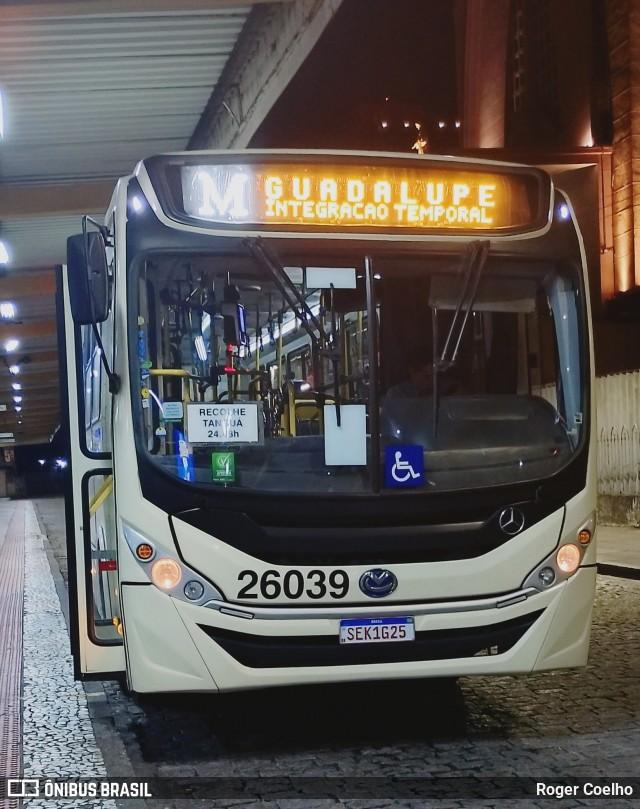GUADALUPE: (257, 170, 508, 209)
